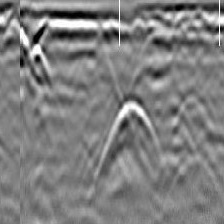Utility: (96, 95, 163, 187)
